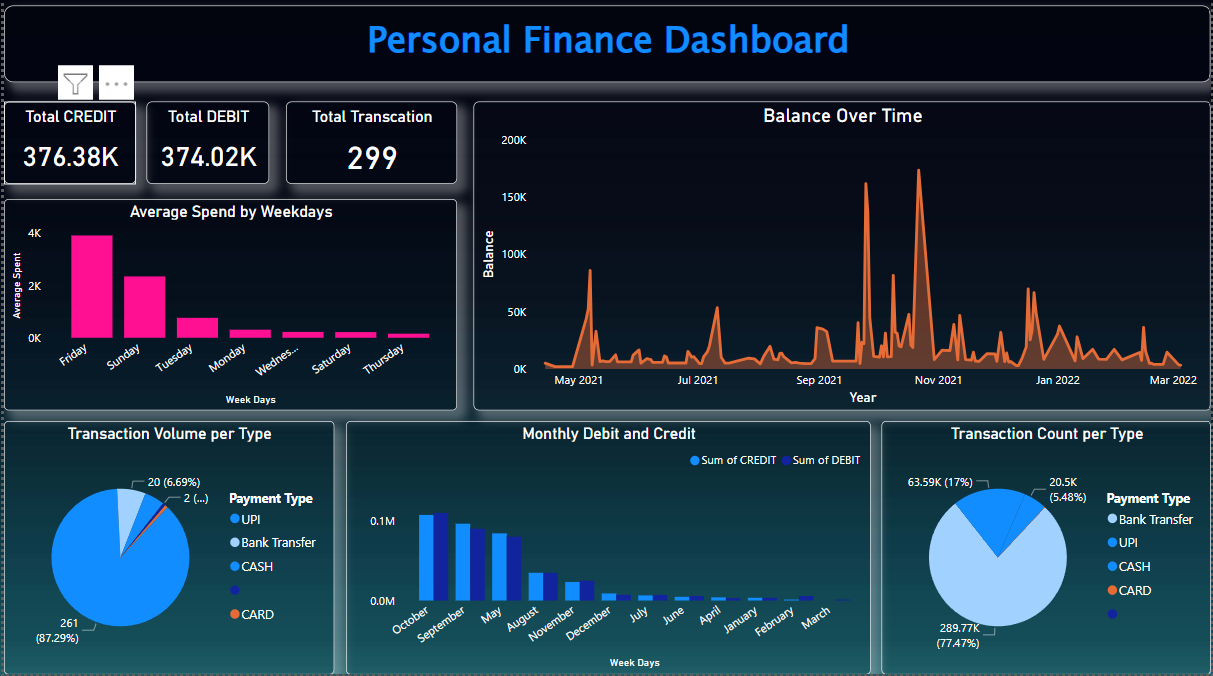

Layout of this report page (visuals, bound fields, positions):
{"tool":"powerbi","page":{"name":"Page 1","canvas":[1280,720],"ordinal":0},"visuals":[{"type":"card","title":"Total CREDIT","fields":{"Values":["Sum(Apr21-March22.CREDIT)"]},"box":[0,112.8,139.9,87.4],"z":0},{"type":"card","title":"Total DEBIT","fields":{"Values":["Sum(Apr21-March22.DEBIT)"]},"box":[151,112.8,130.3,87.4],"z":1000},{"type":"areaChart","title":"Balance Over Time","fields":{"Category":["Apr21-March22.Txn Date.Variation.Date Hierarchy.Year","Apr21-March22.Txn Date.Variation.Date Hierarchy.Quarter","Apr21-March22.Txn Date.Variation.Date Hierarchy.Month","Apr21-March22.Txn Date.Variation.Date Hierarchy.Day"],"Y":["Sum(Apr21-March22.Balance)"]},"box":[497.5,112.8,782,327.4],"z":2000},{"type":"clusteredColumnChart","title":"Average Spend by Weekdays","fields":{"Y":["Avg(Apr21-March22.DEBIT)"],"Category":["Apr21-March22.Day Name"]},"box":[0,216.2,480,224.1],"z":3000},{"type":"clusteredColumnChart","title":"Monthly Debit and Credit","fields":{"Category":["Apr21-March22.Month Name"],"Y":["Sum(Apr21-March22.CREDIT)","Sum(Apr21-March22.DEBIT)"]},"box":[362.4,451.4,556.3,268.6],"z":4000},{"type":"pieChart","title":"Transaction Count per Type","fields":{"Category":["Apr21-March22.Payment Type"],"Y":["Sum(Apr21-March22.DEBIT)"]},"box":[929.8,451.4,349.7,268.6],"z":5000},{"type":"pieChart","title":"Transaction Volume per Type","fields":{"Category":["Apr21-March22.Payment Type"],"Y":["CountNonNull(Apr21-March22.Payment Type)"]},"box":[0,451.4,349.7,268.6],"z":6000},{"type":"card","title":"Total Transcation","fields":{"Values":["CountNonNull(Apr21-March22.Balance)"]},"box":[298.8,112.8,181.2,87.4],"z":7000},{"type":"textbox","box":[0,11.1,1279.5,81.1],"z":8000}]}

Visuals, with their boxes in screenshot pixels (x1, y1, x2, y2), scaled from the page's 1280x720 canvas onto the 1213x676 screenshot:
"Total CREDIT" card: region(0, 106, 133, 188)
"Total DEBIT" card: region(143, 106, 267, 188)
"Balance Over Time" areaChart: region(471, 106, 1212, 413)
"Average Spend by Weekdays" clusteredColumnChart: region(0, 203, 455, 413)
"Monthly Debit and Credit" clusteredColumnChart: region(343, 424, 871, 675)
"Transaction Count per Type" pieChart: region(881, 424, 1212, 675)
"Transaction Volume per Type" pieChart: region(0, 424, 331, 675)
"Total Transcation" card: region(283, 106, 455, 188)
textbox: region(0, 10, 1212, 87)
